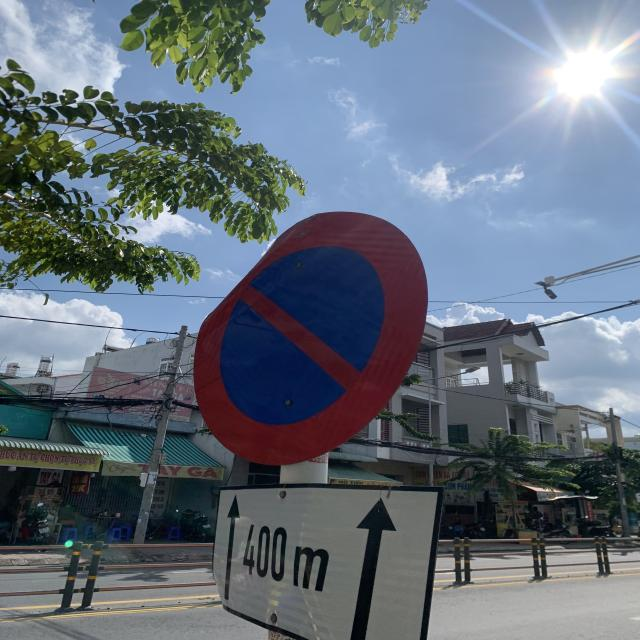Cam_Dau_Xe: (191, 209, 436, 470)
